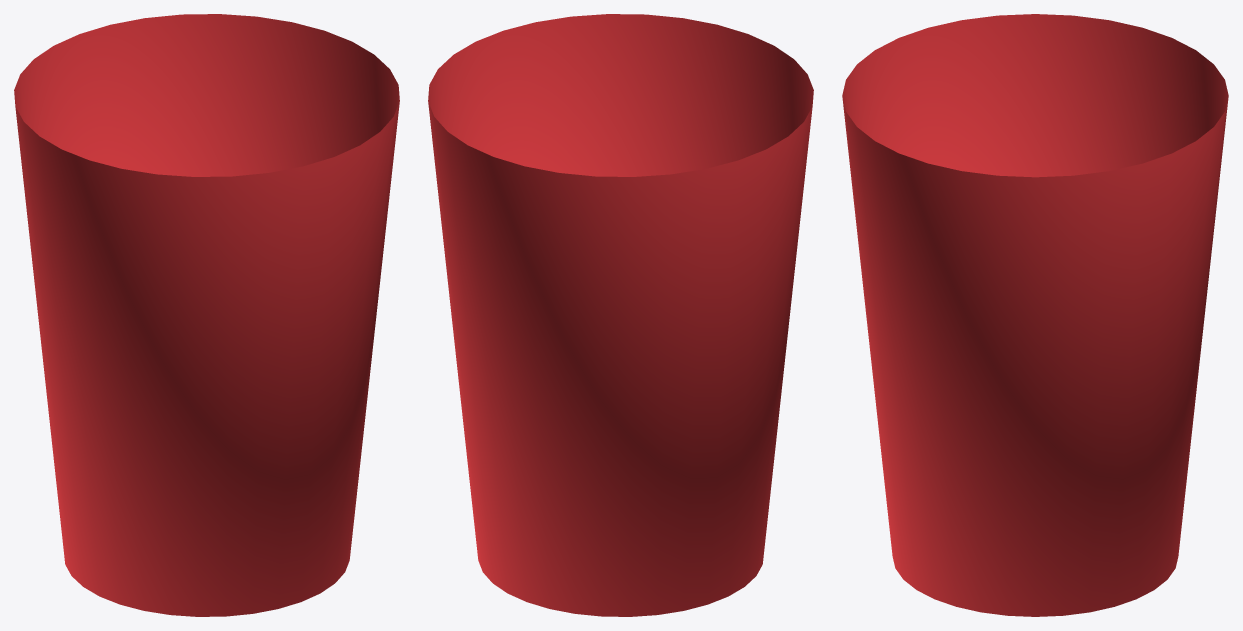
Rendered from cesto.glb.
The picture shows the model from 3 angles, left to right: view 1: azimuth 30°, elevation 25°; view 2: azimuth 150°, elevation 25°; view 3: azimuth 270°, elevation 25°; orthographic projection.
Visible parts, largest first — view 1: Circle; view 2: Circle; view 3: Circle.
Part boxes in pixels (x1,y1,x2,y2): Circle: (14,14,399,616); Circle: (428,14,813,616); Circle: (842,14,1228,616).
Size of the model in its own units: 2.41 by 3.17 by 2.41.
